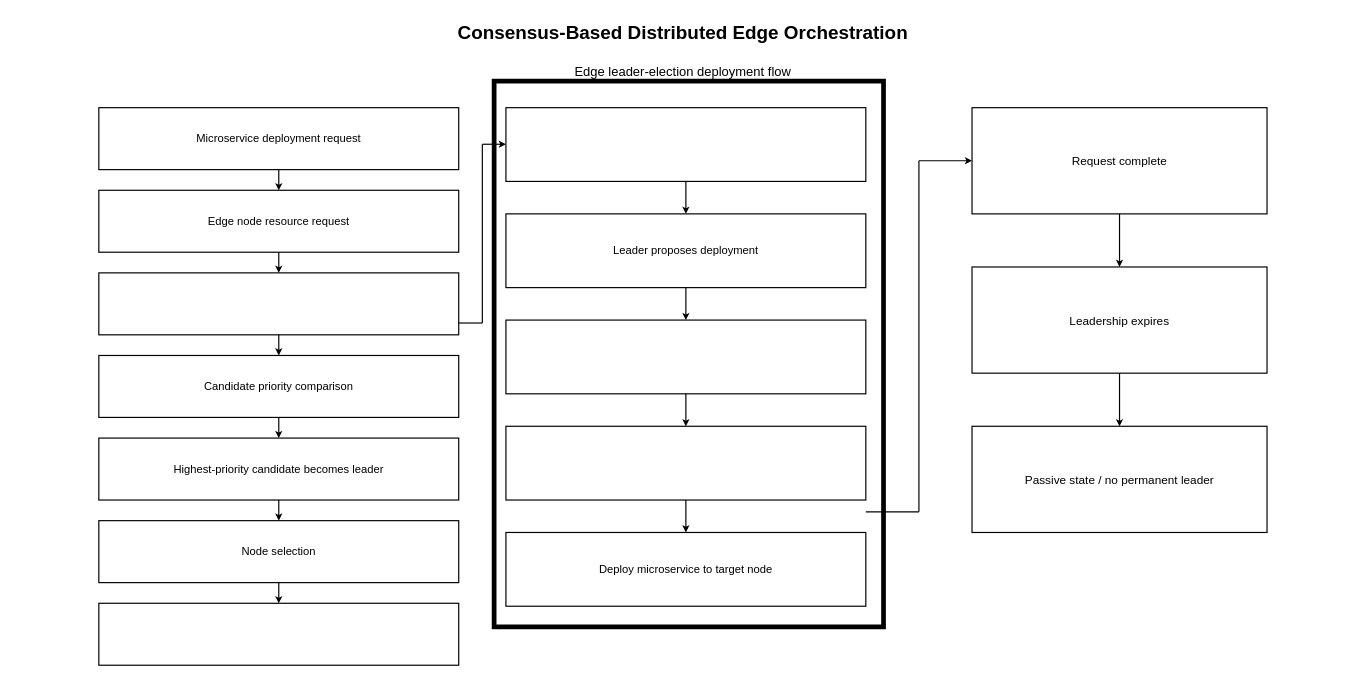
The diagram is 1365 pixels wide and 676 high, and some of its shapes have lost their labels. The shapes that lost their labels are listed below. From the top down, each one's centre as x and y in pixels, then its label:
the point at 685,144: Select suitable target edge node
the point at 278,303: Leader election
the point at 685,356: Other edge nodes vote
the point at 685,462: Distributed log commit
the point at 278,634: Evaluate CPU and RAM allocation
